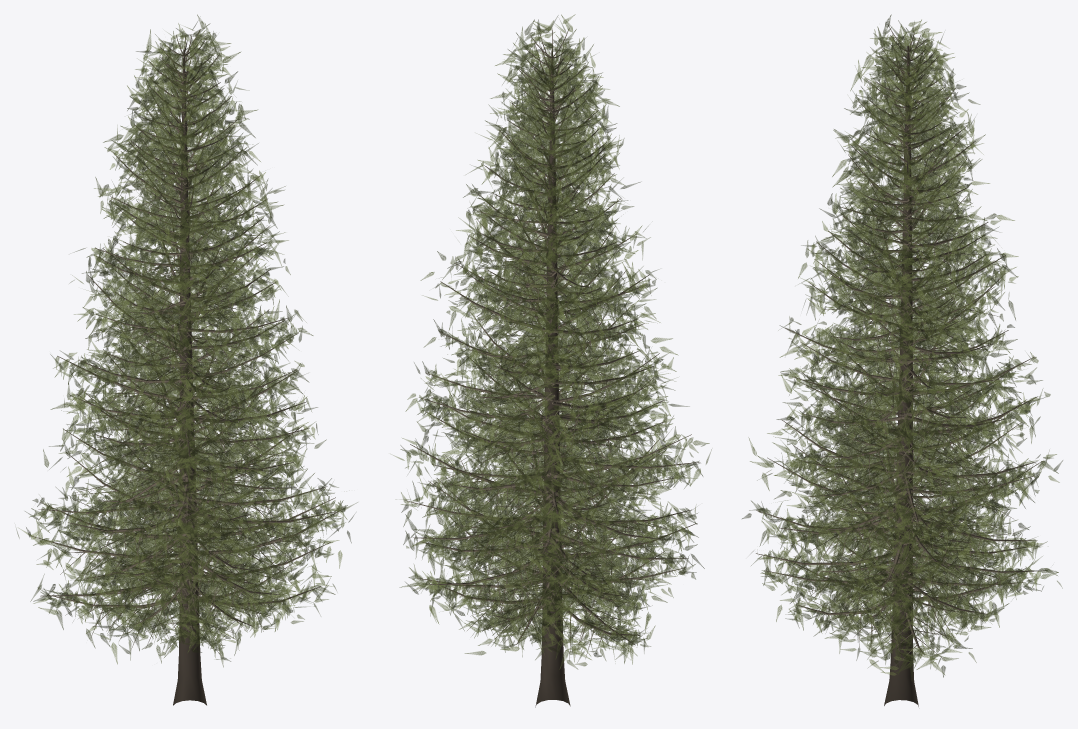
The model's file is conifer_a_near.glb.
3 renders of one model, left to right at view 1: azimuth 30°, elevation 25°; view 2: azimuth 150°, elevation 25°; view 3: azimuth 270°, elevation 25°, orthographic.
Visible parts, largest first — view 1: conifer_a_leaves, conifer_a_wood; view 2: conifer_a_leaves, conifer_a_wood; view 3: conifer_a_leaves, conifer_a_wood.
Boxes of the visible parts, x1,y1,x2,y2 form: conifer_a_leaves: [16, 14, 357, 667]; conifer_a_wood: [32, 30, 343, 705]; conifer_a_leaves: [391, 14, 711, 669]; conifer_a_wood: [404, 28, 700, 707]; conifer_a_leaves: [742, 14, 1062, 680]; conifer_a_wood: [756, 24, 1047, 706].
Bounding box in the file's own units: 8.5 × 19.19 × 8.1.
2 materials, 1 textured.
